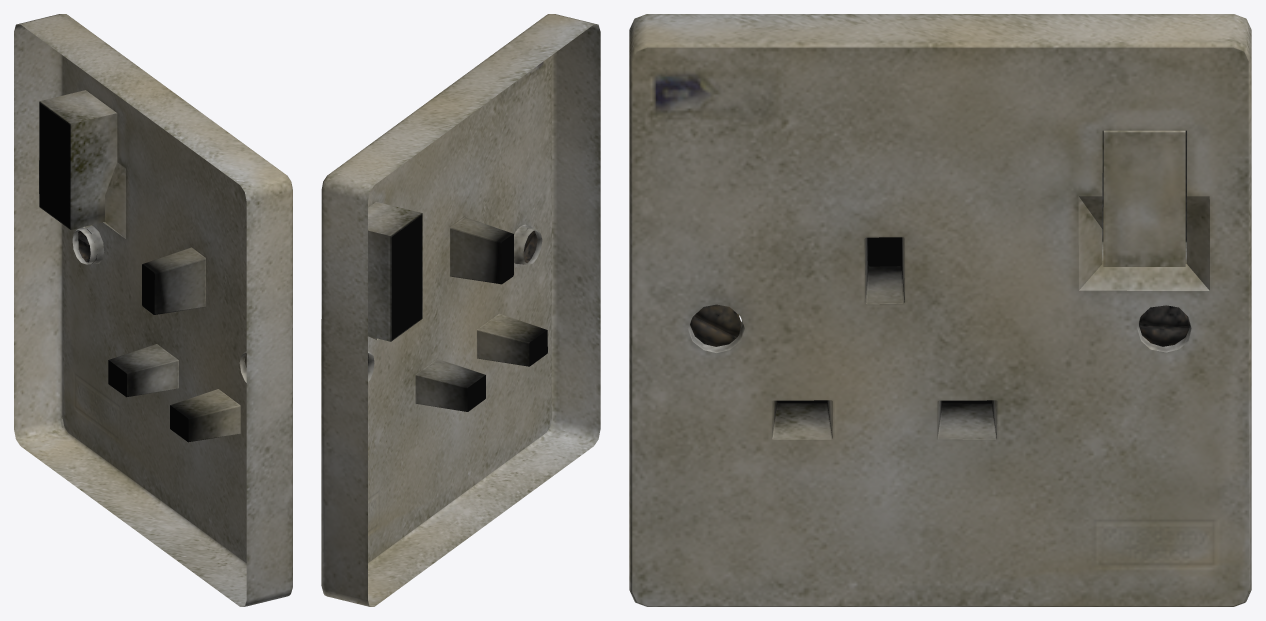
Rendered from Plug.fbx.
The picture shows the model from 3 angles, left to right: view 1: azimuth 30°, elevation 25°; view 2: azimuth 150°, elevation 25°; view 3: azimuth 270°, elevation 25°; orthographic projection. The views are drawn at different scales.
Parts seen in each view (by area): view 1: Plug; view 2: Plug; view 3: Plug.
Part boxes in pixels (x1,y1,x2,y2): Plug: (14,14,292,606); Plug: (321,14,600,606); Plug: (629,14,1251,606).
Bounding box in the file's own units: 1.07 × 8.5 × 8.5.
